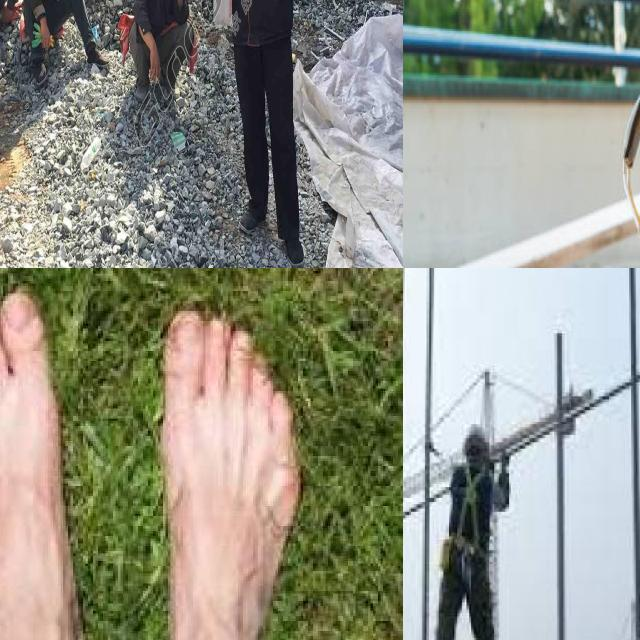Barefoots: (154, 298, 347, 640), (0, 268, 104, 640)
Harness: (437, 458, 496, 586)
